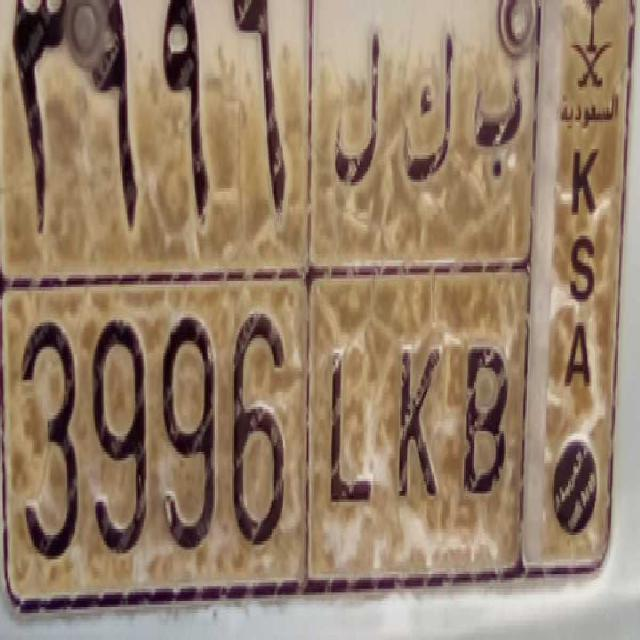license_plate: (3, 277, 526, 623)
